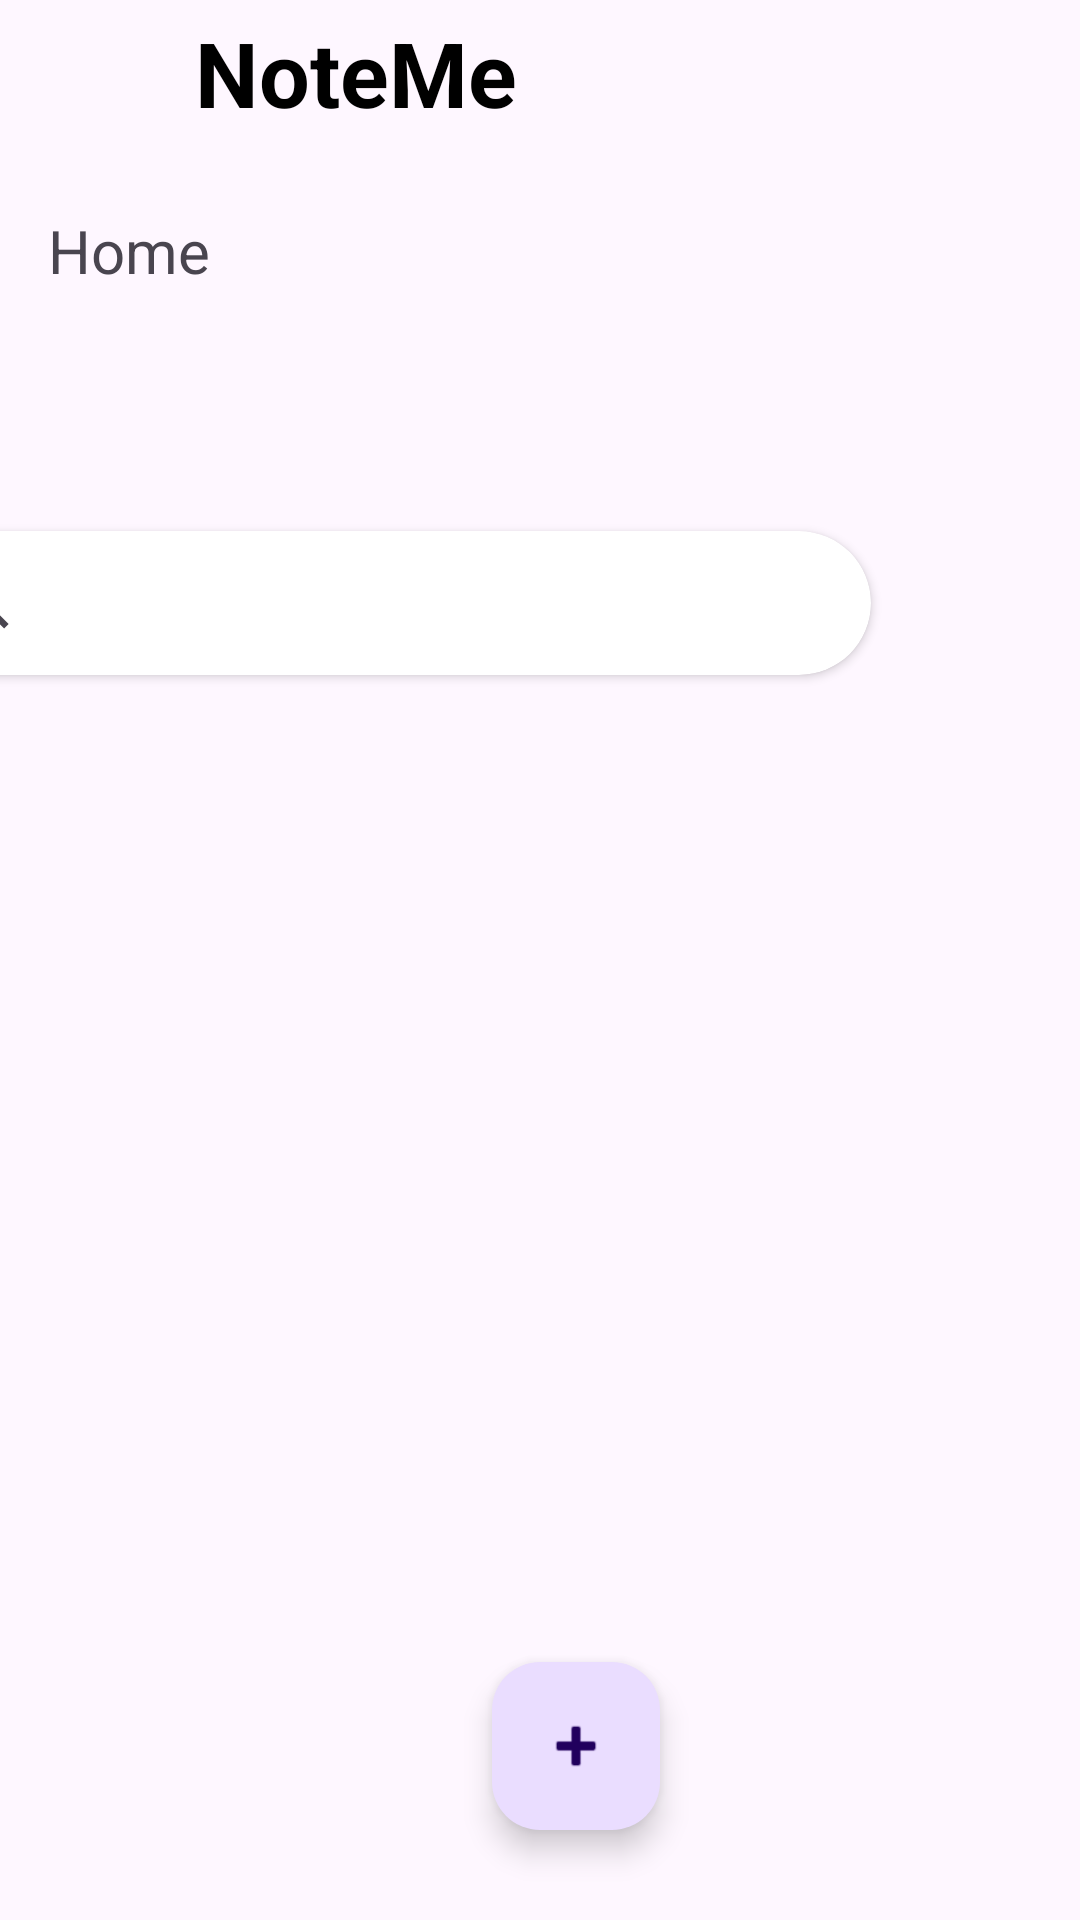

Where icons sit on this 1080px×1920px app screen, as [left=x1, top=y1, right=x2, bottom=y2]:
add: [left=492, top=1662, right=660, bottom=1830]
